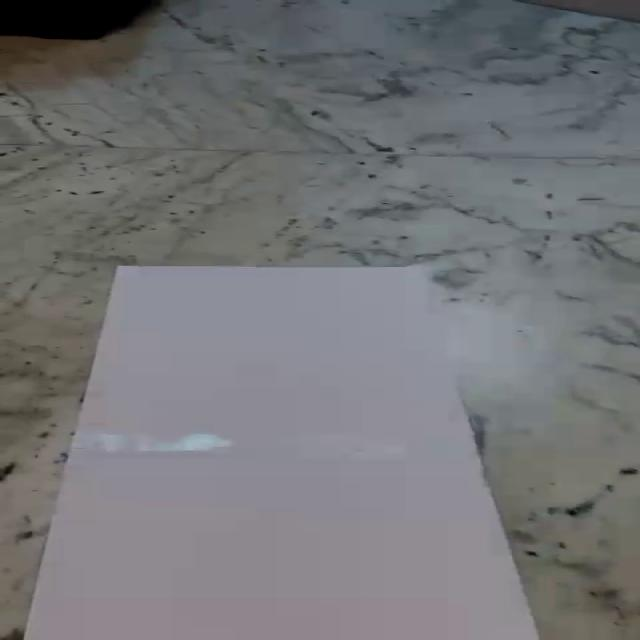road: (23, 265, 540, 640)
